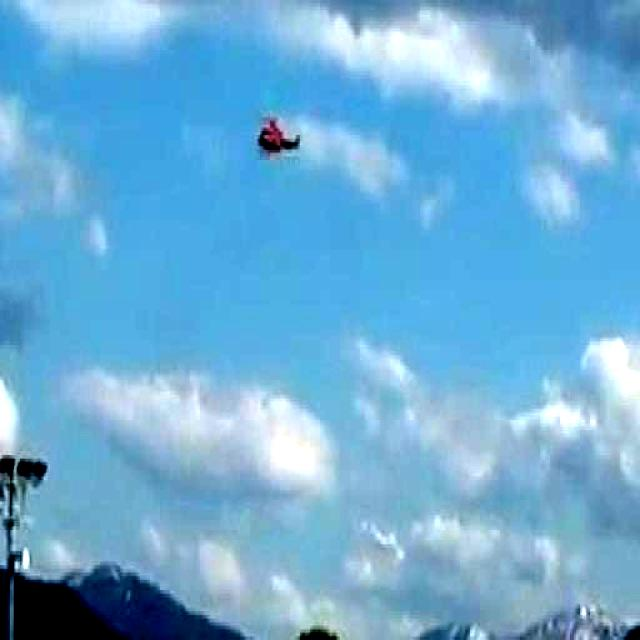drone: (252, 112, 304, 159)
